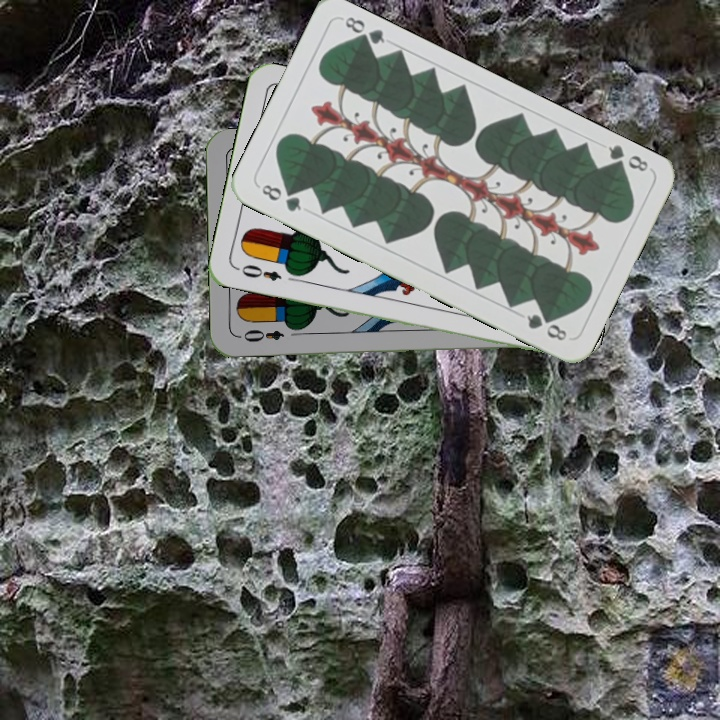EO: (237, 260, 284, 284), (235, 325, 287, 345)
G8: (603, 140, 651, 176), (257, 180, 304, 214)
